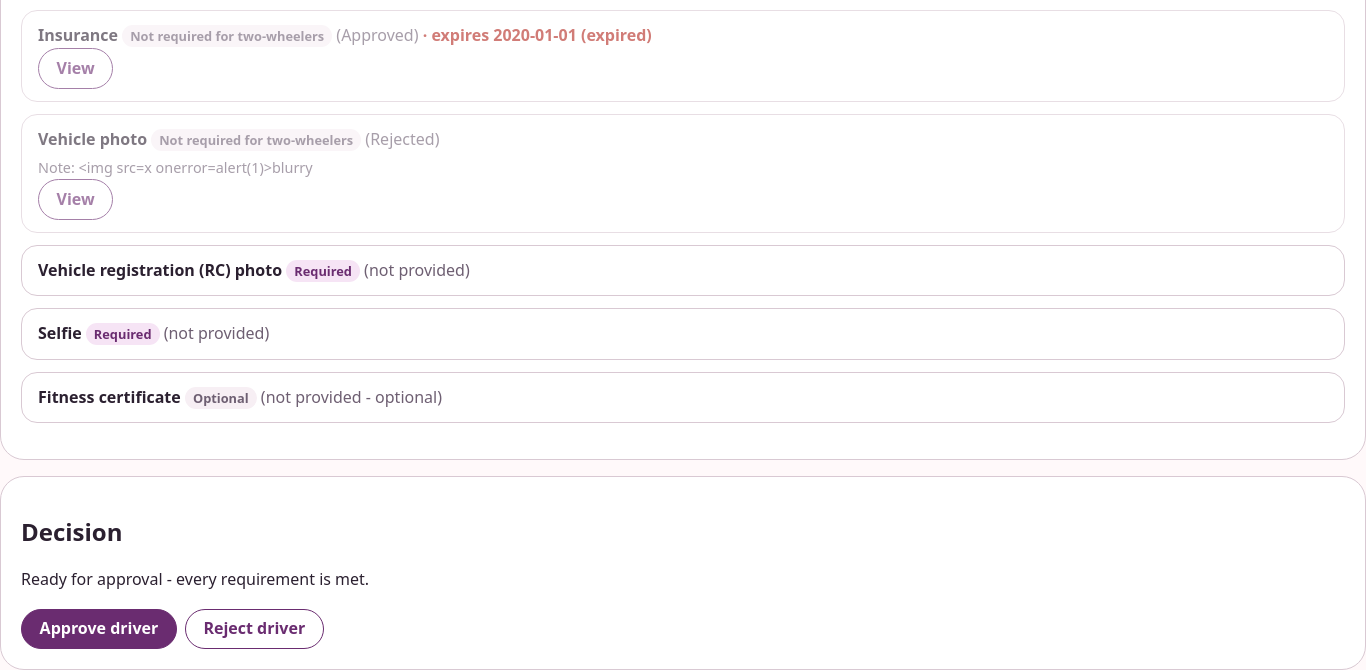
Test case: DriverReview › the decision panel › shows the rejection reason after a rejection and sends the typed reason
The width and height of the screenshot is (1366, 670).
(page scrolled)
Click the button "Reject driver" at point(254, 629), box [185,609,324,649]
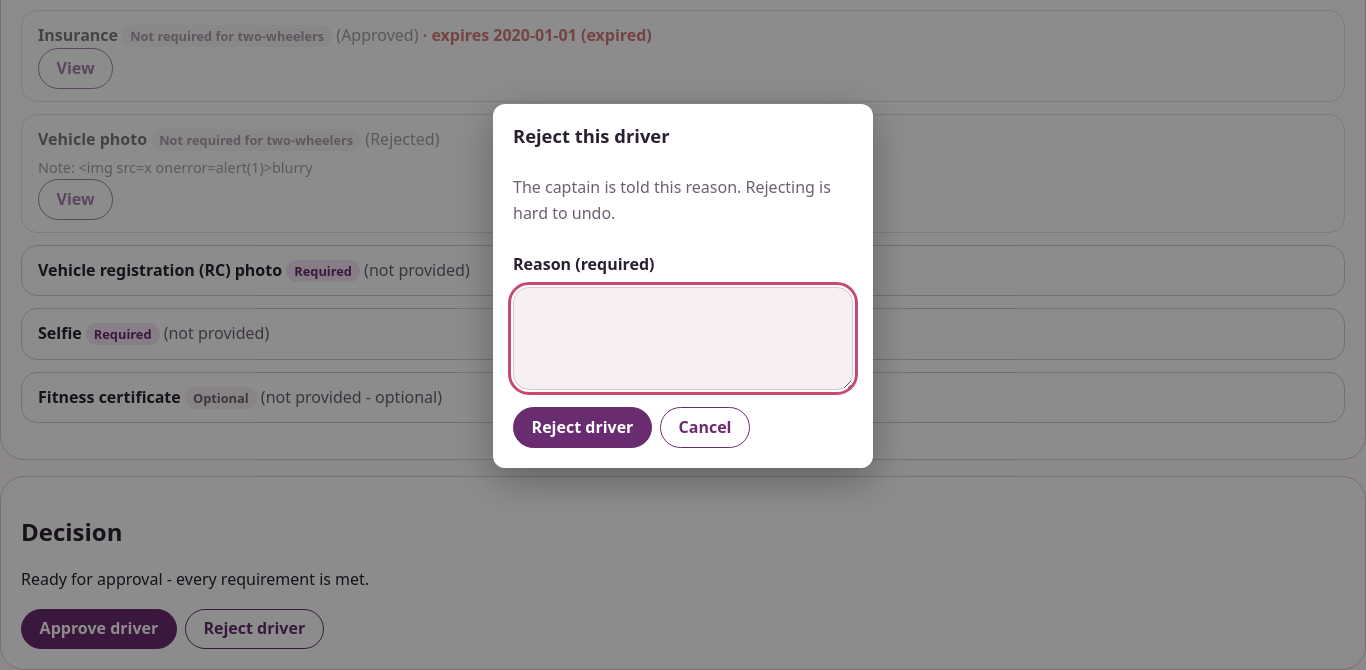
Type "Selfie is blurry" into the text box labelled "Reason (required)" at point(683, 338), box [513,287,853,390]
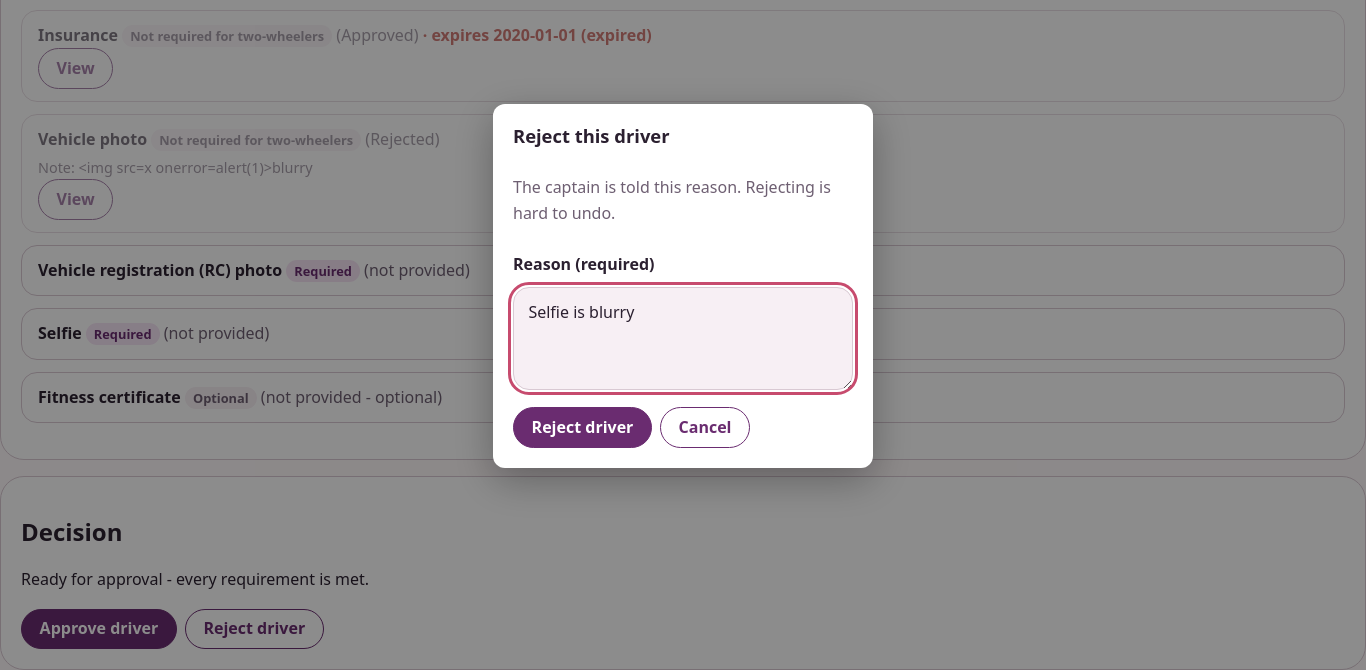
Click the button "Reject driver" at point(582, 428), box [513,408,652,448]
(page scrolled)
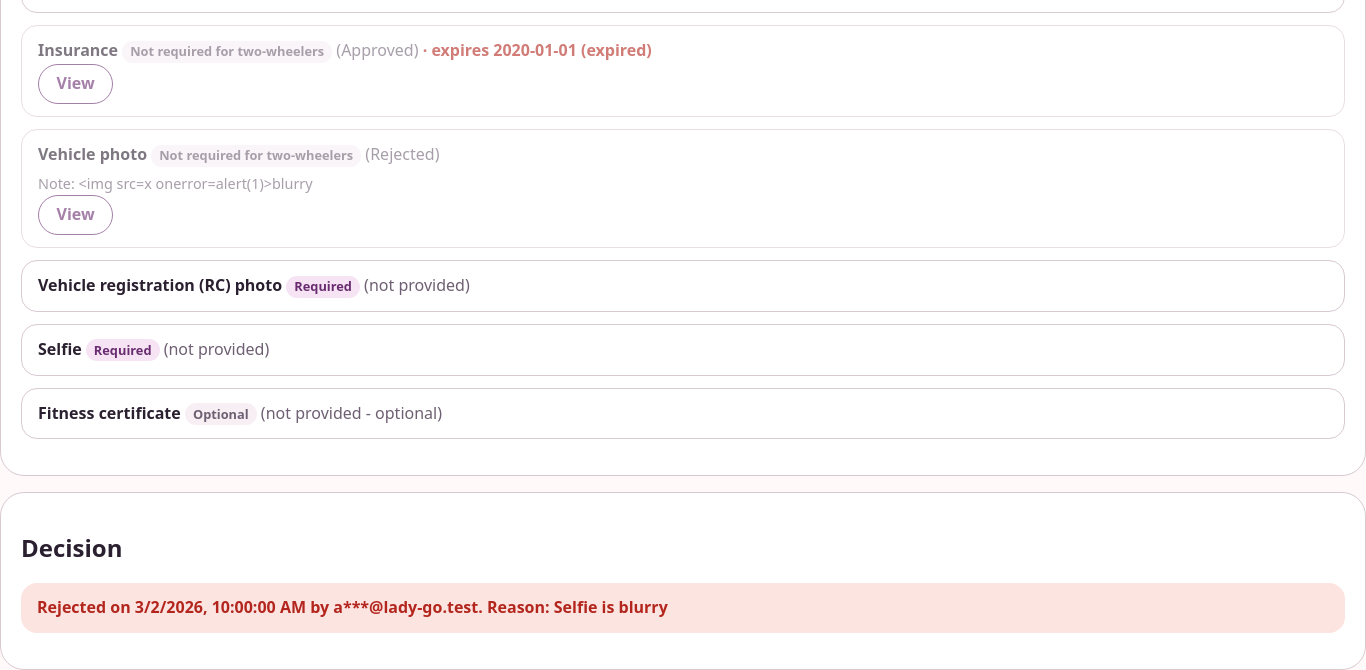
Now the button "Reject driver" is gone
